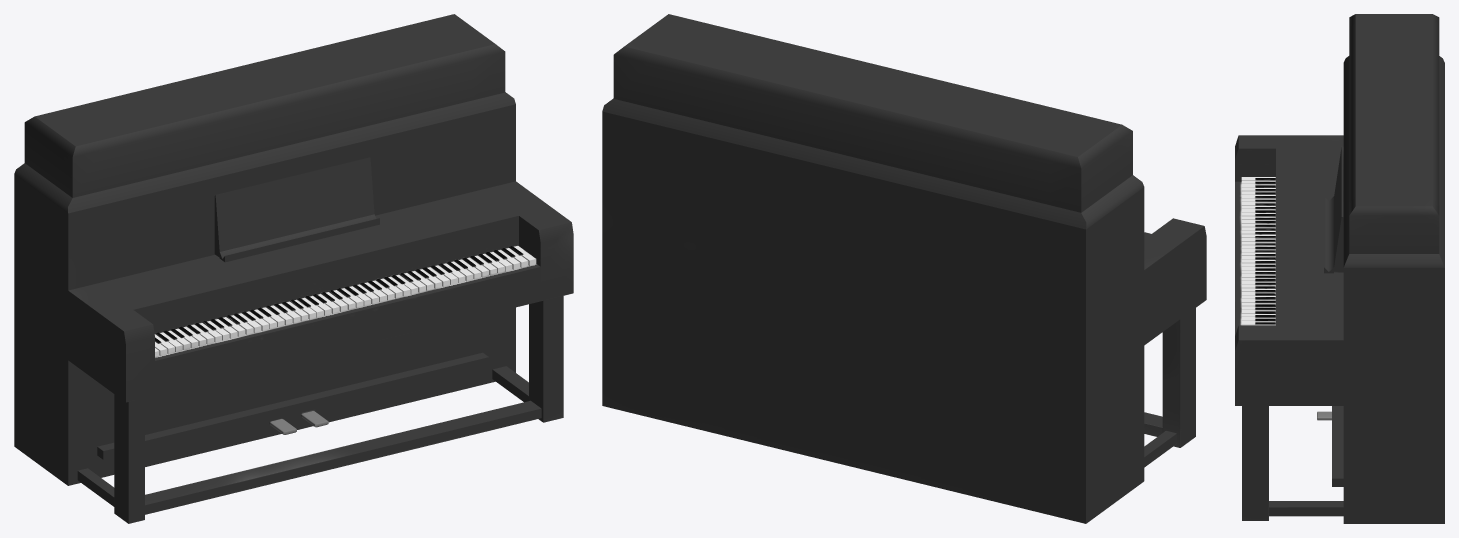
Rendered from piano texture.fbx.
3 renders of one model, left to right at view 1: azimuth 30°, elevation 25°; view 2: azimuth 150°, elevation 25°; view 3: azimuth 270°, elevation 25°, orthographic. The views are drawn at different scales.
Parts seen in each view (by area): view 1: pCube103; view 2: pCube103; view 3: pCube103.
Part boxes in pixels (bbox=[...]): pCube103: bbox=[14, 14, 573, 523]; pCube103: bbox=[602, 14, 1206, 523]; pCube103: bbox=[1235, 14, 1444, 523].
Bounding box in the file's own units: 14.17 × 10.02 × 6.12.
Materials: 1 (1 with a texture image).
